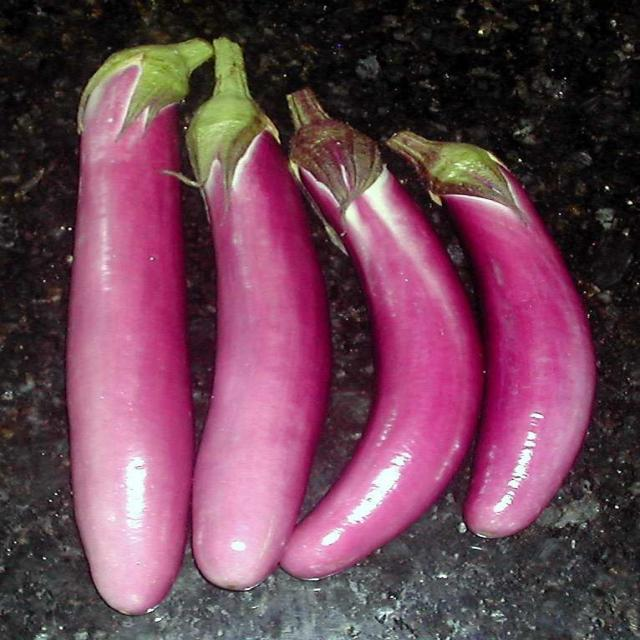Eggplant-r1Ob: (281, 89, 483, 579), (386, 131, 597, 538), (67, 39, 214, 615), (185, 38, 331, 590)
